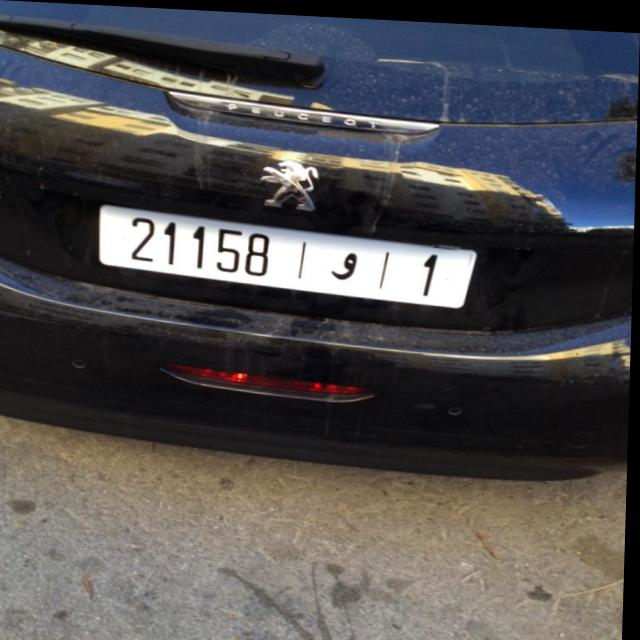License-Plate: (99, 203, 478, 303)
